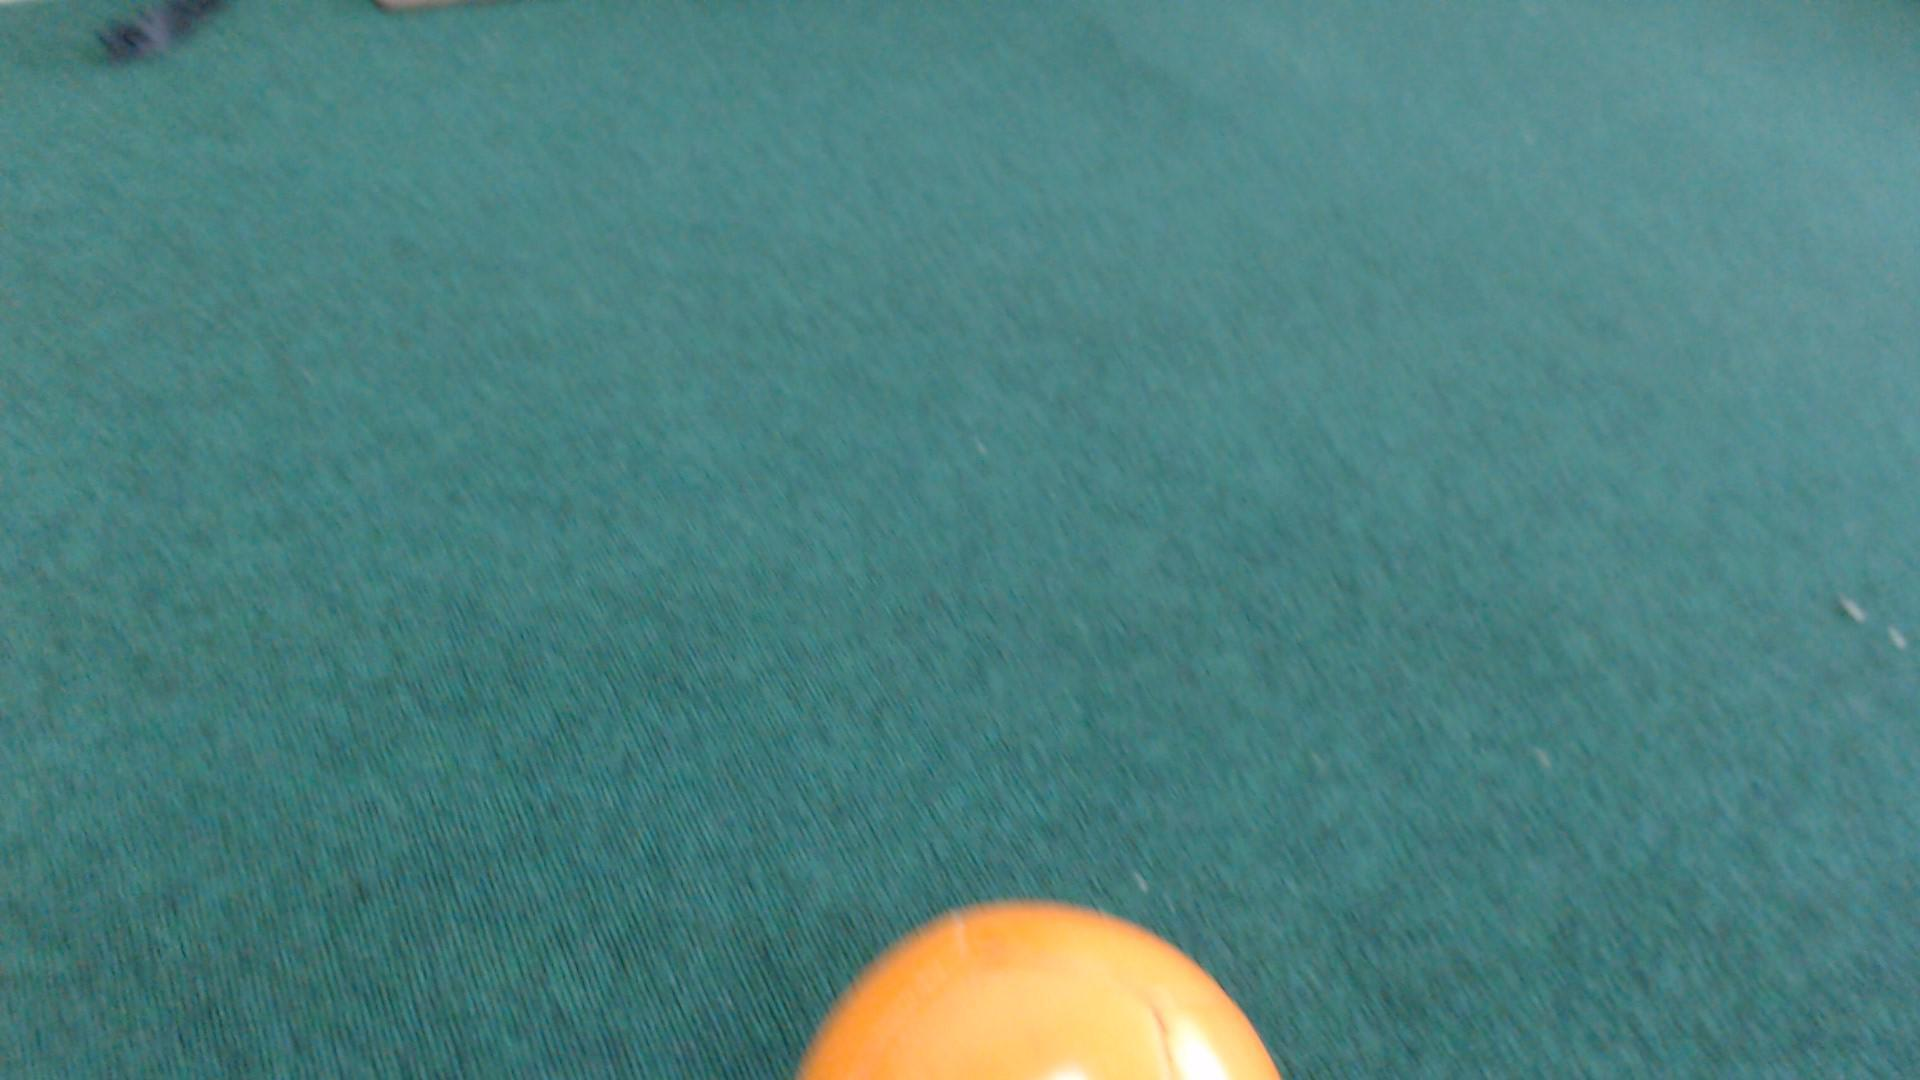bola: (774, 889, 1287, 1080)
